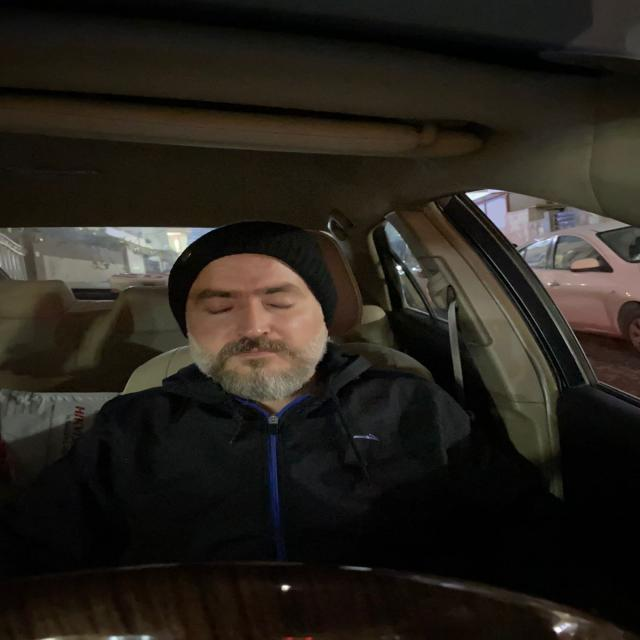drowsy: (168, 235, 346, 393)
